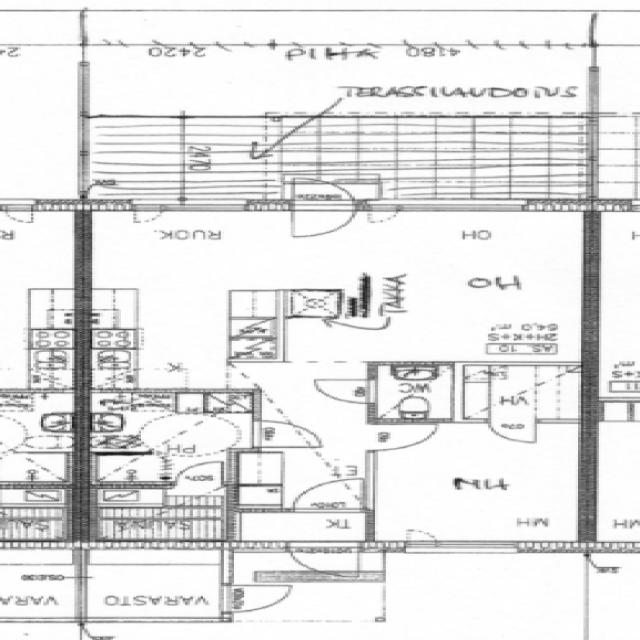door: (285, 184, 360, 240), (285, 542, 362, 578), (290, 477, 366, 512), (166, 458, 232, 497), (223, 583, 295, 615), (307, 375, 380, 406), (247, 419, 319, 450), (369, 422, 442, 452), (484, 421, 540, 445), (126, 199, 168, 227), (399, 527, 441, 548), (0, 206, 36, 226)
window: (408, 538, 528, 556), (390, 201, 531, 215), (158, 202, 251, 215)
zone: (355, 208, 593, 364), (366, 423, 588, 545), (79, 208, 357, 293), (79, 286, 271, 390), (81, 392, 253, 473), (80, 554, 228, 622), (88, 487, 229, 545), (454, 362, 588, 423), (0, 552, 81, 621), (369, 362, 459, 423), (3, 390, 81, 452), (228, 510, 373, 543), (0, 487, 74, 541), (167, 456, 234, 504)
